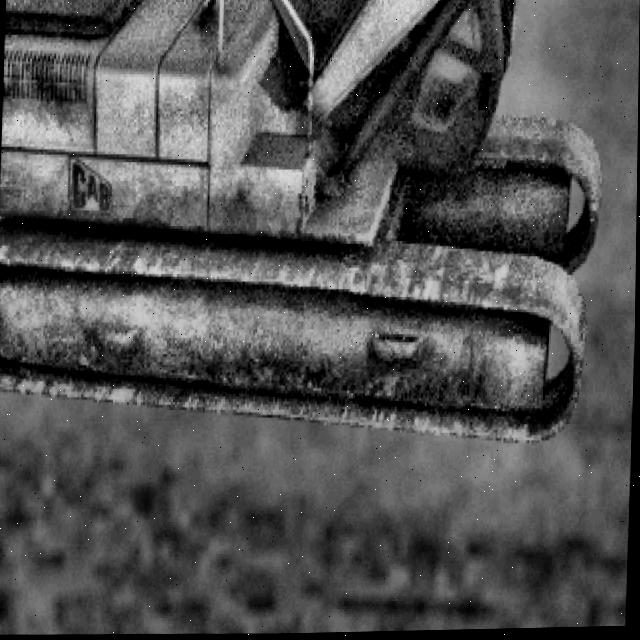excavator: (0, 0, 640, 453)
